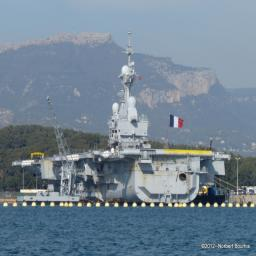Portanaves: (13, 27, 237, 209)
